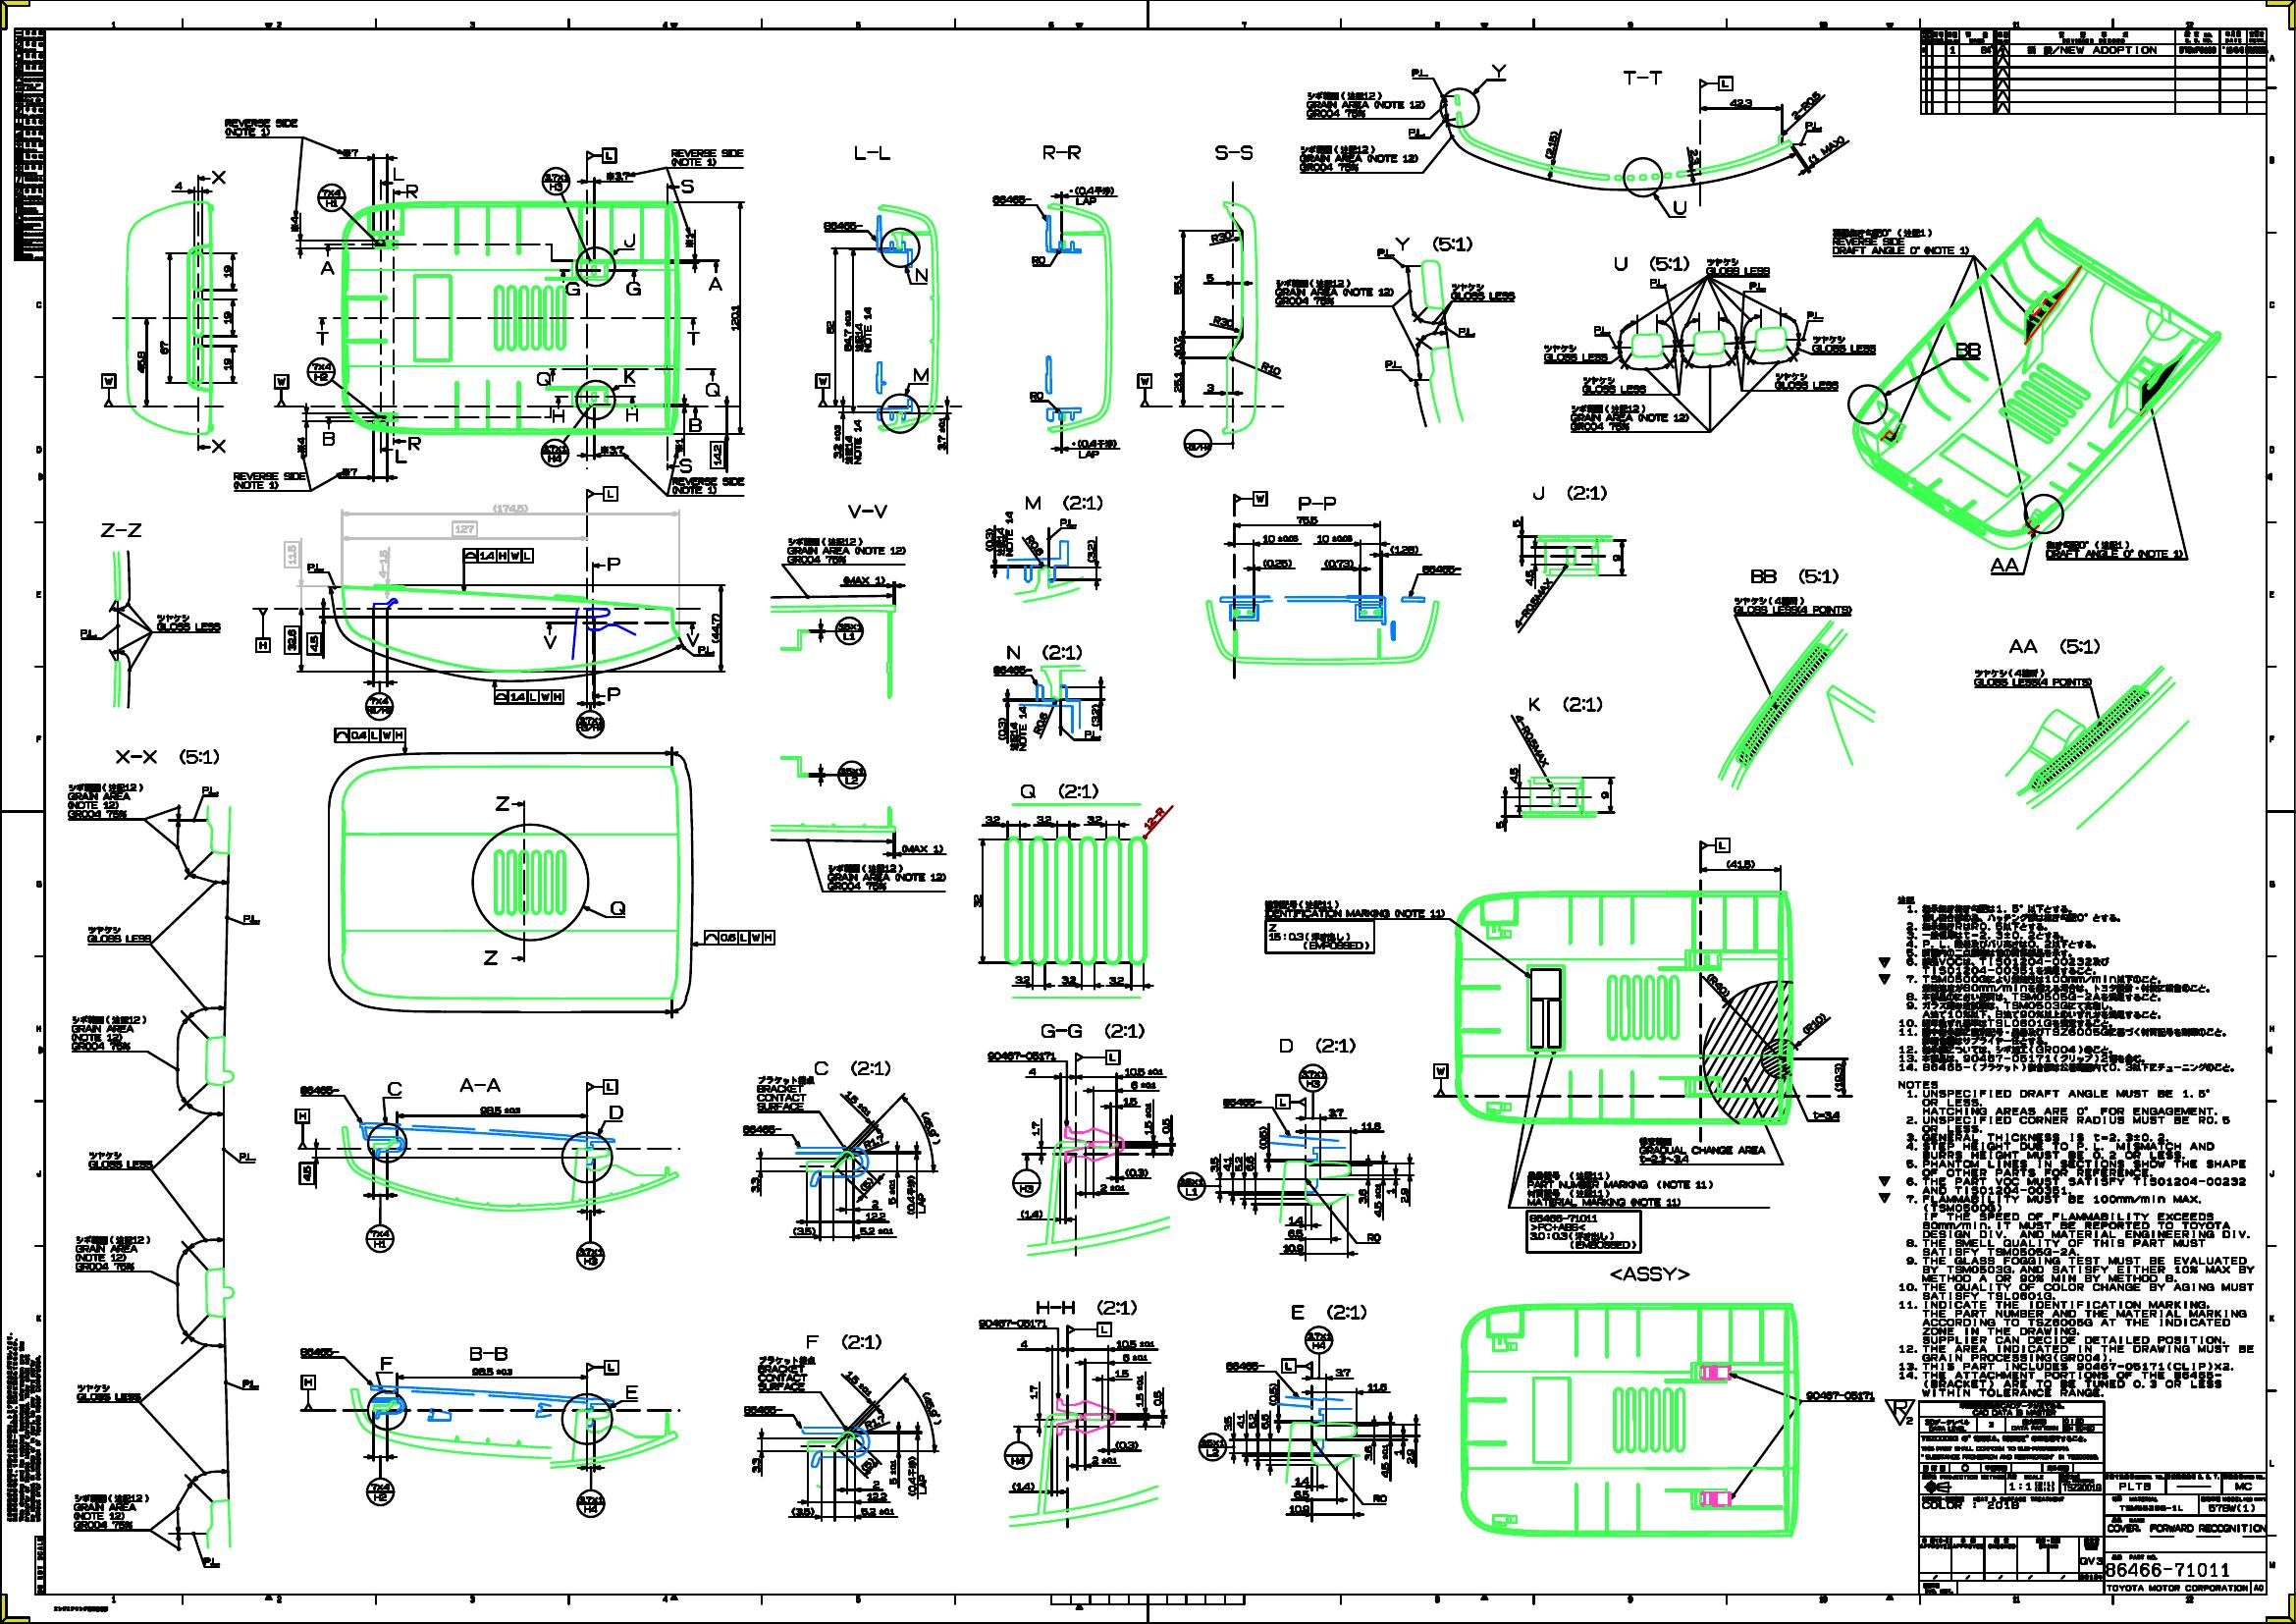anntotation_text: (1874, 1076, 2256, 1397), (1874, 893, 2240, 1074), (1525, 1169, 1720, 1207), (4, 1330, 40, 1526), (1527, 1211, 1641, 1253), (1263, 898, 1448, 919), (826, 859, 949, 891), (1830, 228, 1971, 255), (1635, 1134, 1767, 1162), (785, 534, 906, 564), (1300, 144, 1418, 174), (1569, 404, 1692, 432), (1265, 921, 1374, 953), (1305, 91, 1426, 118), (1275, 279, 1397, 306), (70, 1492, 153, 1531), (69, 1014, 148, 1053), (1038, 1018, 1152, 1044), (65, 780, 146, 817), (74, 1234, 153, 1269), (2041, 541, 2185, 559), (112, 747, 220, 770), (755, 1076, 815, 1114), (1033, 1295, 1138, 1316), (1275, 1033, 1360, 1060), (1969, 668, 2092, 685), (1730, 596, 1853, 613), (755, 1355, 817, 1390), (1748, 568, 1838, 589), (1017, 779, 1103, 800), (1611, 253, 1690, 276), (1525, 692, 1604, 715), (221, 114, 299, 137), (1021, 492, 1103, 513), (1611, 1262, 1693, 1283), (1007, 642, 1080, 664), (2008, 638, 2103, 656), (1530, 483, 1607, 504), (805, 1332, 884, 1352), (74, 1380, 141, 1403), (813, 1058, 891, 1077), (230, 471, 306, 490), (671, 476, 747, 496), (1288, 1302, 1367, 1320), (1066, 183, 1116, 211), (669, 148, 745, 165), (1581, 374, 1648, 394), (1774, 371, 1841, 390), (1449, 281, 1516, 301), (155, 613, 220, 633), (1070, 436, 1119, 460), (1809, 336, 1878, 353), (1397, 236, 1472, 251), (1706, 257, 1773, 274), (1541, 344, 1607, 362), (86, 924, 153, 942), (334, 728, 406, 743), (1804, 1387, 1876, 1403), (1007, 703, 1029, 752), (845, 501, 892, 524), (495, 689, 564, 705), (86, 1151, 153, 1167), (905, 1452, 928, 1497), (994, 508, 1015, 557), (1880, 1397, 1917, 1425), (852, 306, 873, 353), (843, 418, 864, 466), (1296, 1062, 1328, 1093), (364, 1225, 395, 1257), (704, 930, 775, 944), (905, 1174, 928, 1216), (1196, 1431, 1226, 1462), (1175, 1169, 1205, 1200), (573, 1241, 604, 1271), (365, 1475, 393, 1508), (1212, 144, 1256, 165), (462, 550, 536, 562), (316, 183, 346, 213), (1182, 427, 1212, 457), (836, 759, 866, 789), (574, 1487, 604, 1517), (1010, 1167, 1040, 1197), (538, 438, 569, 466), (574, 708, 603, 740), (987, 1049, 1058, 1062), (848, 144, 892, 163), (306, 357, 336, 385), (539, 167, 569, 195), (1500, 733, 1560, 747), (1003, 1441, 1031, 1471), (97, 522, 144, 540), (834, 615, 863, 643), (364, 692, 392, 721), (460, 1074, 501, 1093), (1504, 598, 1567, 610), (1065, 1320, 1112, 1336), (1040, 144, 1082, 162), (1621, 69, 1664, 86), (1305, 1325, 1332, 1353), (1781, 98, 1830, 112), (1073, 1048, 1121, 1062), (977, 1318, 1051, 1327), (1298, 496, 1339, 511), (295, 1109, 311, 1149), (33, 1536, 44, 1596), (467, 1345, 511, 1359), (1799, 144, 1848, 156), (100, 373, 118, 406), (583, 485, 620, 501), (840, 571, 887, 584), (53, 1603, 107, 1613), (256, 606, 269, 652), (1231, 490, 1267, 506), (299, 1374, 314, 1410), (1419, 562, 1463, 575), (272, 374, 288, 408), (1137, 373, 1152, 406), (587, 1077, 620, 1093), (1221, 1095, 1263, 1107), (299, 1083, 341, 1095), (1955, 339, 1982, 359), (585, 148, 617, 163), (1699, 74, 1734, 88), (899, 842, 945, 852), (815, 373, 829, 406), (1274, 1095, 1307, 1109), (820, 220, 864, 230), (299, 1345, 341, 1355), (587, 1360, 618, 1374), (741, 1403, 783, 1413), (1224, 1360, 1267, 1371), (1281, 1359, 1312, 1373), (1433, 1063, 1448, 1095), (1699, 838, 1730, 852), (494, 793, 513, 816), (991, 195, 1031, 206), (741, 1123, 782, 1134), (1989, 557, 2018, 571), (993, 664, 1031, 675), (608, 1102, 627, 1123), (480, 947, 501, 967), (1669, 197, 1688, 216), (404, 181, 422, 202), (318, 258, 336, 279), (383, 1077, 404, 1095), (1140, 812, 1170, 824), (564, 279, 583, 297), (1488, 62, 1507, 79), (608, 900, 627, 917), (211, 165, 227, 186), (199, 782, 221, 796), (388, 165, 406, 183), (622, 406, 639, 424), (606, 685, 624, 703), (314, 329, 330, 348), (913, 265, 929, 285), (912, 366, 931, 381), (541, 633, 560, 649), (378, 1353, 393, 1373), (304, 561, 329, 573), (1374, 246, 1397, 258), (211, 436, 227, 453), (704, 381, 720, 399), (624, 281, 641, 297), (604, 557, 622, 573), (536, 369, 550, 388), (680, 178, 694, 197), (241, 912, 262, 924), (321, 431, 337, 446), (550, 408, 566, 424), (706, 276, 722, 292), (685, 631, 701, 647), (624, 1385, 639, 1401), (689, 417, 703, 434), (1411, 67, 1428, 81), (1384, 359, 1404, 371), (408, 438, 422, 453), (622, 367, 636, 383), (678, 457, 692, 473), (622, 230, 636, 246), (1648, 276, 1667, 286), (1082, 729, 1101, 740), (79, 627, 98, 638), (687, 330, 699, 346), (697, 643, 713, 656), (1407, 127, 1425, 137), (1804, 120, 1822, 130), (202, 1555, 220, 1566), (239, 1151, 256, 1162), (395, 448, 408, 462), (1748, 281, 1767, 290), (1592, 325, 1611, 334), (241, 1378, 260, 1387), (1806, 311, 1822, 322), (1058, 517, 1075, 526), (1456, 325, 1474, 334)
dimension_text: (478, 1104, 522, 1116), (841, 309, 854, 353), (1323, 555, 1354, 571), (1260, 531, 1300, 543), (283, 626, 300, 654), (935, 415, 949, 450), (471, 1366, 515, 1376), (1316, 533, 1353, 545), (492, 501, 529, 513), (831, 424, 843, 460), (1702, 977, 1734, 991), (1133, 1373, 1145, 1408), (306, 631, 323, 656), (1114, 1339, 1154, 1350), (1124, 1065, 1165, 1076), (1811, 1107, 1841, 1121), (283, 541, 299, 568), (926, 1392, 938, 1425), (1261, 555, 1295, 568), (924, 1111, 936, 1144), (1723, 858, 1757, 870), (1372, 1181, 1383, 1218), (1142, 1100, 1152, 1137), (857, 1223, 894, 1234), (1390, 543, 1421, 555), (710, 612, 722, 643), (1546, 127, 1558, 158), (840, 1098, 875, 1109), (710, 441, 724, 468), (1017, 1207, 1047, 1220), (1035, 707, 1047, 736), (451, 522, 474, 538), (1379, 1443, 1390, 1476), (841, 1378, 875, 1388), (378, 548, 388, 582), (1799, 1016, 1827, 1028), (299, 1162, 314, 1183), (1114, 1438, 1140, 1450), (1256, 1125, 1268, 1151), (1089, 700, 1101, 726), (1268, 1380, 1279, 1410), (1098, 1183, 1128, 1193), (885, 1176, 896, 1206), (861, 1508, 896, 1517), (1124, 1165, 1149, 1178), (1086, 538, 1098, 562), (1121, 1352, 1149, 1362), (1727, 97, 1755, 107), (1367, 1380, 1390, 1392), (1281, 1241, 1303, 1253), (135, 350, 148, 373), (789, 1506, 815, 1517), (1130, 1079, 1156, 1090), (791, 1225, 817, 1236), (1295, 513, 1321, 524), (984, 527, 994, 554), (996, 715, 1007, 742), (604, 170, 631, 181), (729, 304, 740, 330), (1172, 336, 1182, 362), (597, 445, 627, 453), (1221, 1155, 1233, 1176), (1360, 1120, 1381, 1132), (982, 814, 1003, 826), (1523, 566, 1535, 587), (1029, 534, 1040, 559), (861, 1135, 885, 1146), (1089, 1455, 1117, 1464), (887, 1455, 896, 1483), (1288, 1503, 1310, 1513), (864, 1417, 887, 1427), (864, 1209, 887, 1220), (1326, 1106, 1346, 1118), (1029, 1120, 1042, 1139), (748, 1174, 761, 1193), (1012, 974, 1031, 986), (1010, 1480, 1036, 1489), (1288, 1213, 1303, 1227), (1059, 974, 1080, 984), (1261, 362, 1282, 373), (1214, 315, 1235, 325), (1212, 228, 1233, 239), (1690, 148, 1700, 169), (1361, 1443, 1374, 1461), (863, 1492, 887, 1501), (1356, 1186, 1368, 1204), (1365, 1232, 1383, 1244), (1123, 1095, 1140, 1107), (1159, 1116, 1172, 1134), (857, 1176, 875, 1188), (824, 318, 836, 336), (1834, 1062, 1841, 1091), (1405, 1446, 1416, 1466), (1152, 1388, 1163, 1408), (1209, 1153, 1219, 1172), (295, 434, 306, 453), (288, 214, 299, 234), (1288, 1227, 1303, 1239), (1332, 1367, 1349, 1378), (1293, 1487, 1310, 1497), (1260, 1413, 1270, 1431), (1028, 1383, 1038, 1401), (1245, 1153, 1254, 1174), (1231, 1156, 1242, 1174), (1033, 814, 1054, 823), (221, 308, 232, 325), (221, 353, 232, 371), (1026, 390, 1043, 401), (1173, 274, 1182, 295), (1173, 371, 1182, 392), (1609, 552, 1623, 564), (1235, 1413, 1245, 1429), (750, 1457, 761, 1473), (859, 1461, 875, 1471), (1108, 974, 1124, 984), (1507, 515, 1523, 526), (160, 339, 170, 355), (341, 466, 357, 476), (683, 232, 694, 248), (1031, 255, 1047, 265), (1507, 766, 1518, 782), (1293, 1476, 1310, 1485), (1247, 1411, 1256, 1429), (1398, 1186, 1407, 1204), (1086, 814, 1103, 823), (223, 264, 232, 281), (675, 438, 683, 455), (1391, 1445, 1404, 1457), (870, 1199, 882, 1211), (1372, 1492, 1386, 1503), (1386, 1185, 1397, 1199), (1223, 1413, 1231, 1429), (1114, 1367, 1130, 1376), (973, 893, 982, 909), (343, 148, 358, 156), (1026, 1065, 1038, 1076), (1599, 787, 1609, 800), (172, 179, 183, 192), (1205, 272, 1217, 283), (1491, 817, 1504, 828), (1019, 1338, 1028, 1348), (1205, 383, 1216, 392), (870, 1480, 882, 1487)
object: (1850, 216, 2222, 550), (1458, 1301, 1801, 1541), (341, 199, 680, 438), (1453, 888, 1794, 1125), (341, 765, 680, 1000), (2004, 661, 2192, 833), (339, 584, 680, 673), (341, 1120, 680, 1209), (1451, 95, 1790, 183), (1715, 617, 1881, 793), (769, 605, 892, 835), (351, 1385, 680, 1469), (202, 805, 234, 1547), (123, 202, 214, 439), (1007, 1396, 1159, 1527), (1026, 1121, 1172, 1258), (1005, 833, 1149, 965), (1205, 592, 1440, 664), (1042, 202, 1114, 432), (877, 202, 936, 432), (1221, 199, 1260, 441), (1419, 257, 1469, 425), (1279, 1394, 1358, 1483), (1272, 1135, 1353, 1220), (1627, 325, 1788, 357), (1005, 538, 1080, 605), (1033, 664, 1087, 735), (1535, 534, 1614, 576), (801, 1424, 871, 1471), (1525, 775, 1600, 817), (794, 1144, 871, 1185), (111, 550, 123, 708)
title_block: (1918, 1401, 2266, 1596), (1918, 28, 2266, 114), (14, 28, 44, 262)
